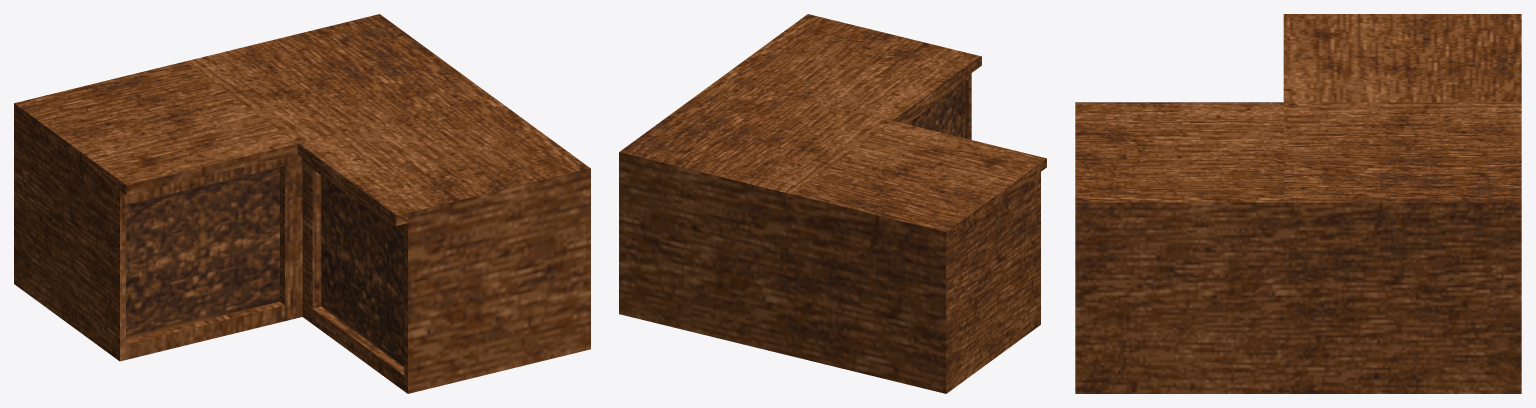
The model's file is SM_Dungeon_Counter_Corner_Inside.fbx.
The picture shows the model from 3 angles, left to right: view 1: azimuth 30°, elevation 25°; view 2: azimuth 150°, elevation 25°; view 3: azimuth 270°, elevation 25°; orthographic projection. The views are drawn at different scales.
Parts seen in each view (by area): view 1: SM_Dungeon_Counter_Corner_Inside; view 2: SM_Dungeon_Counter_Corner_Inside; view 3: SM_Dungeon_Counter_Corner_Inside.
Part boxes in pixels (box(x1,y1,x2,y2)): SM_Dungeon_Counter_Corner_Inside: box(14, 14, 590, 393); SM_Dungeon_Counter_Corner_Inside: box(619, 14, 1046, 393); SM_Dungeon_Counter_Corner_Inside: box(1075, 14, 1521, 393).
Size of the model in its own units: 200 by 94.44 by 200.
